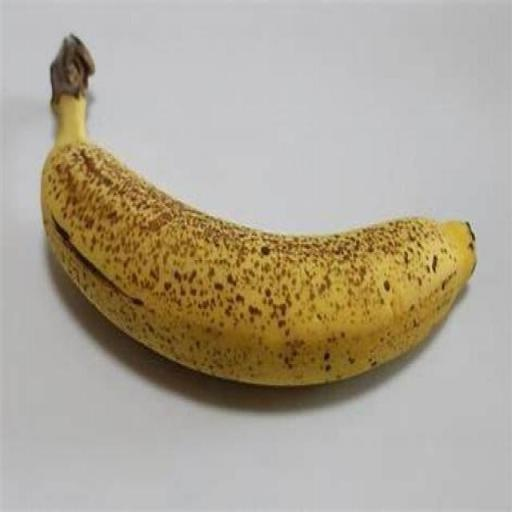fruit: (41, 36, 475, 384)
